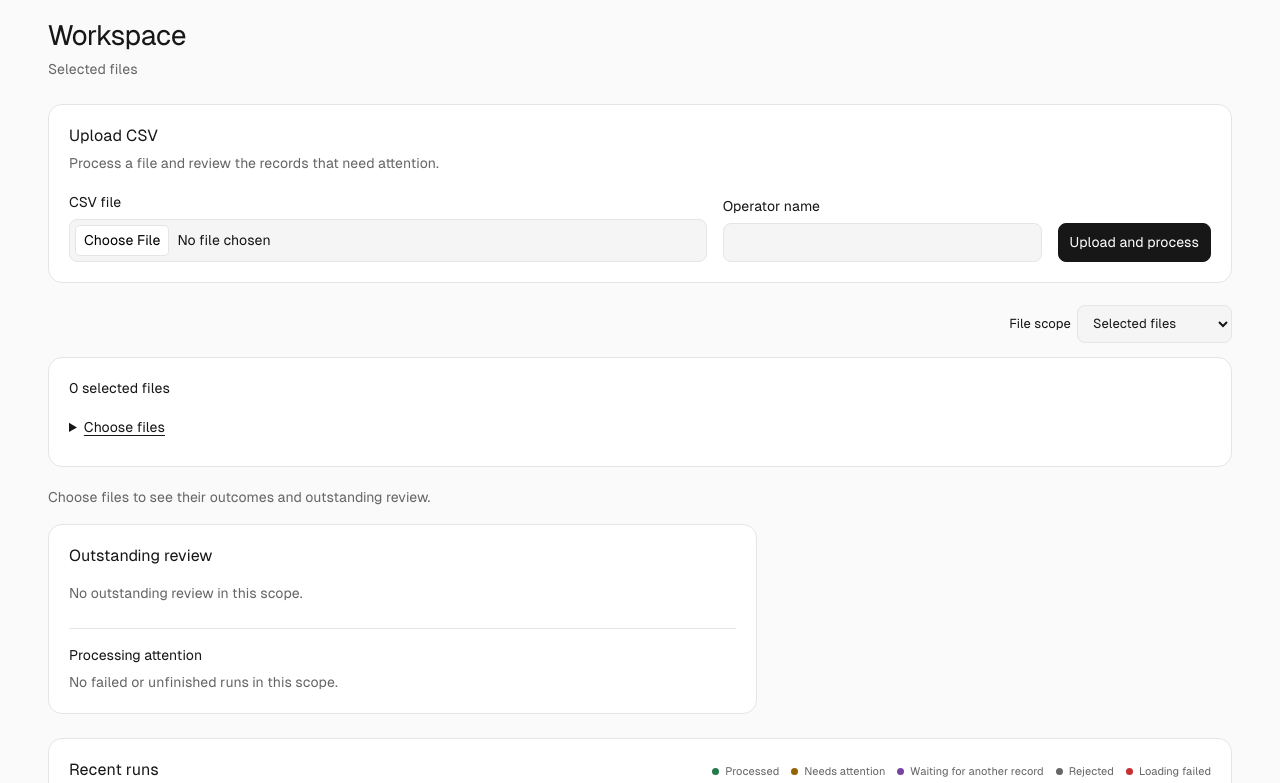
an empty Selected-files visit can recover a failed catalog inside the picker
This screenshot has width=1280, height=783.
Click the heading "Choose files". click: (124, 427)
box: [84, 419, 165, 435]
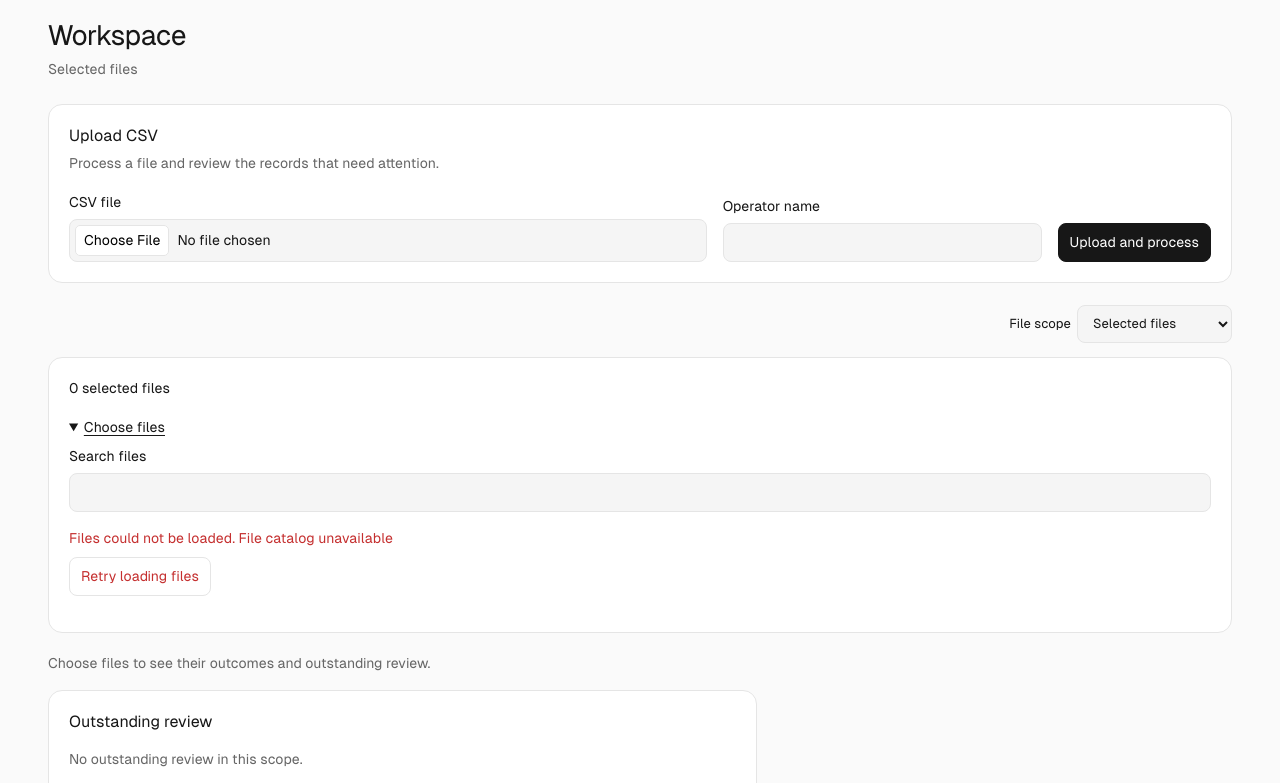
Expected: the text "0 selected files" is shown, [69, 380, 170, 396]
Expected: the message shows "File catalog unavailable", [238, 530, 393, 546]
Click the button "Retry loading files". click: (140, 576)
box: [69, 557, 211, 596]
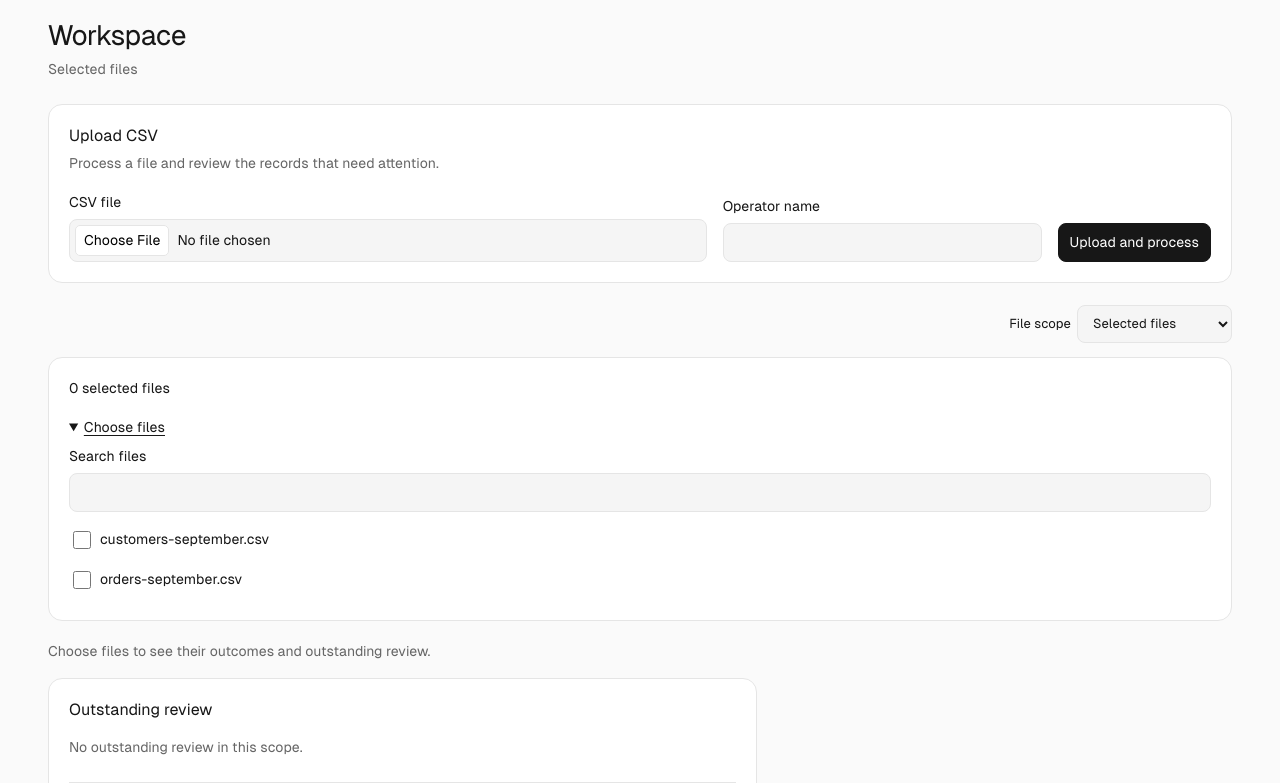
Click the checkbox labelled "customers-september.csv". click: (82, 540)
box: [73, 531, 91, 549]
(page scrolled)
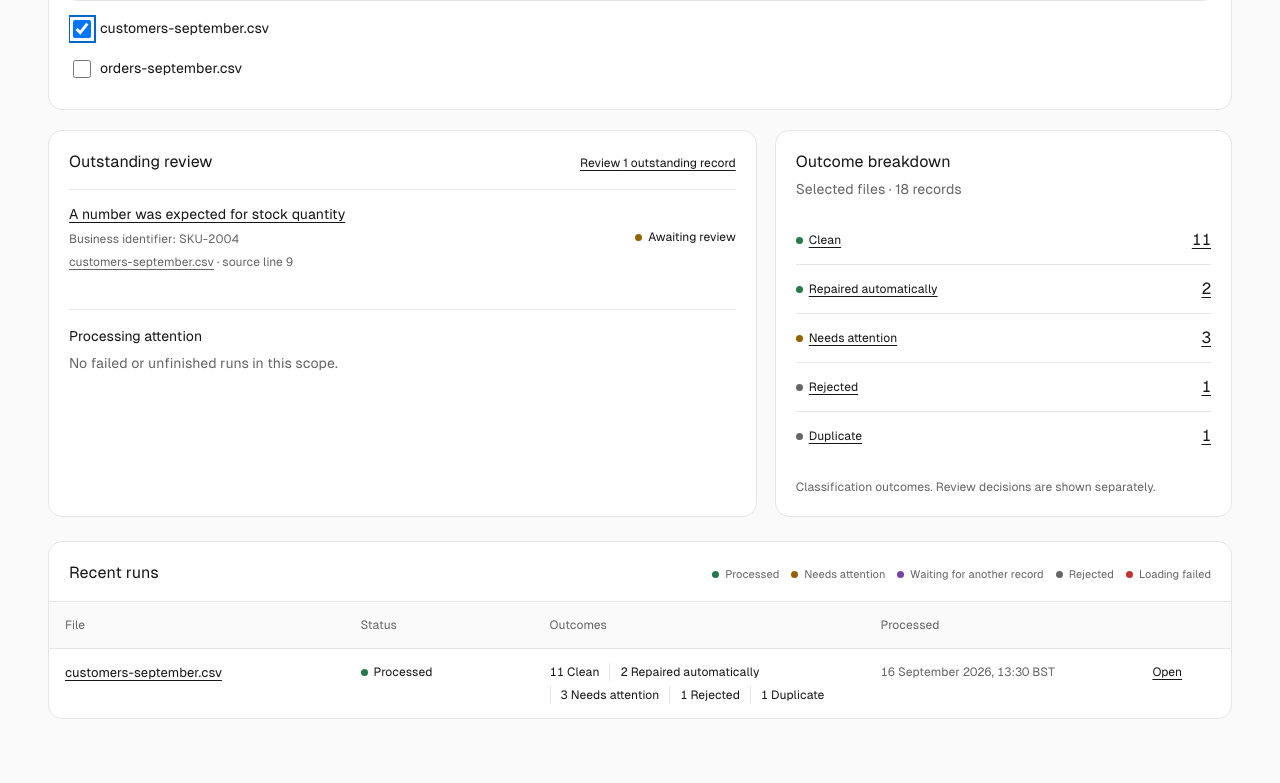
Expected: the message "Files could not be loaded. File catalog unavailable Retry loading files" is not shown
Expected: the table shows "customers-september.csv", [65, 665, 222, 680]
